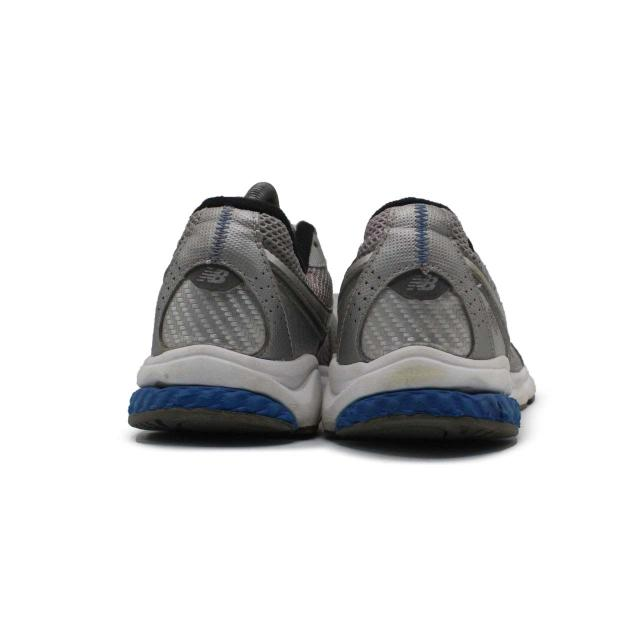heel: (333, 203, 503, 357), (149, 198, 307, 358)
midsole: (130, 342, 321, 435), (323, 346, 520, 435)
